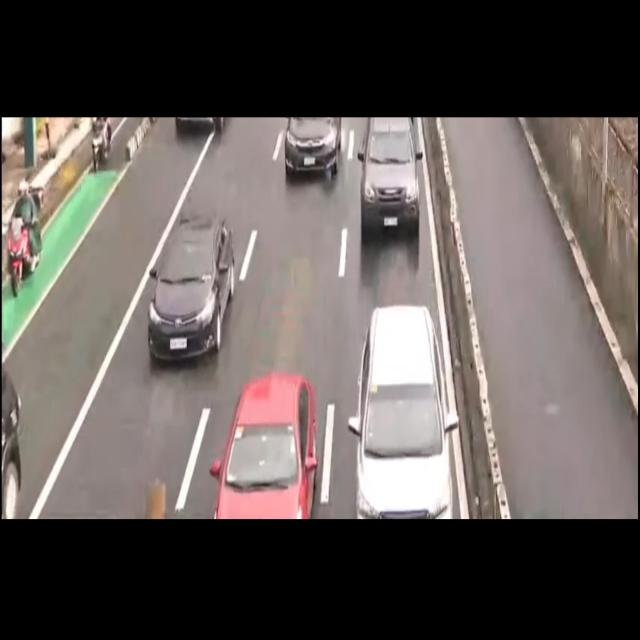Motorcycle: (6, 178, 44, 293)
SUV: (353, 312, 449, 512), (357, 123, 428, 247)
Sedan: (215, 376, 319, 516), (146, 214, 236, 362)
